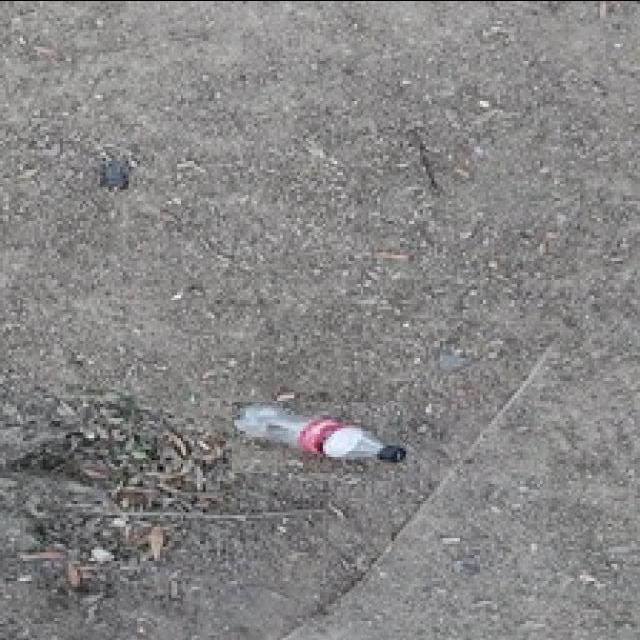寶特瓶: (232, 401, 407, 472)
